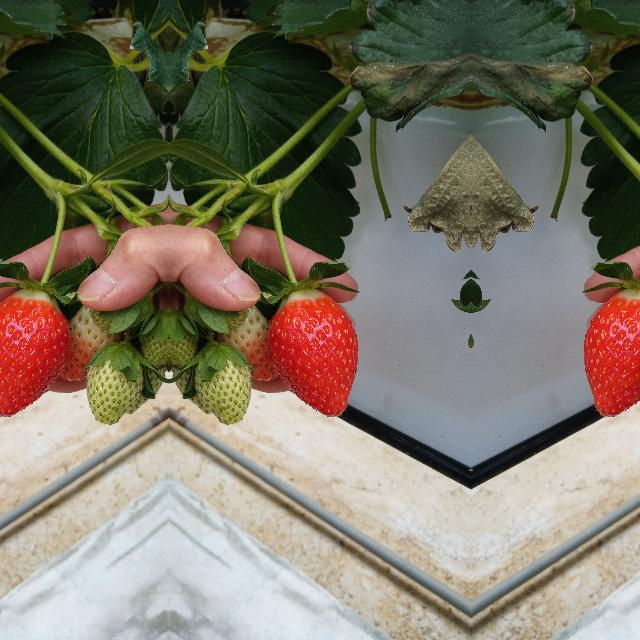Health_100: (266, 287, 358, 417), (0, 287, 70, 417), (583, 287, 640, 417)
Health_25: (197, 354, 251, 428), (85, 354, 139, 428)
